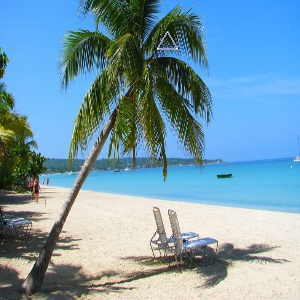triangle: (154, 29, 180, 53)
